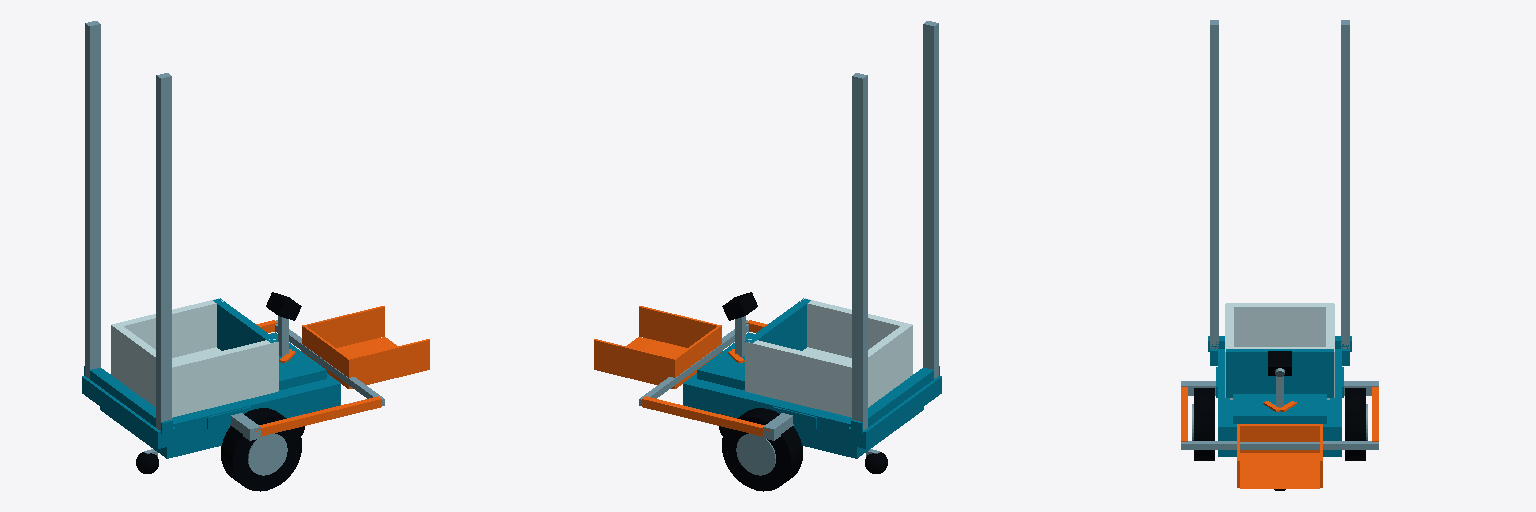
robot.urdf — collector_basket_lift_v2:
<?xml version='1.0' encoding='utf-8'?>
<robot name="collector_basket_lift_v2">
  <material name="body">
    <color rgba="0.03 0.53 0.65 1" />
  </material>
  <material name="basket">
    <color rgba="0.80 0.91 0.93 1" />
  </material>
  <material name="orange">
    <color rgba="1.0 0.44 0.10 1" />
  </material>
  <material name="rubber">
    <color rgba="0.045 0.06 0.08 1" />
  </material>
  <material name="hub">
    <color rgba="0.50 0.65 0.70 1" />
  </material>
  <link name="base_link">
    <inertial>
      <origin xyz="-0.025 0 0" />
      <mass value="7.0" />
      <inertia ixx="0.087" ixy="0" ixz="0" iyy="0.184" iyz="0" izz="0.256" />
    </inertial>
    <visual name="chassis">
      <origin xyz="0 0 -0.025" />
      <geometry>
        <box size="0.55 0.37 0.10" />
      </geometry>
      <material name="body" />
    </visual>
    <collision name="chassis_collision">
      <origin xyz="0 0 -0.025" />
      <geometry>
        <box size="0.55 0.37 0.10" />
      </geometry>
    </collision>
    <visual name="arm_pivot_shaft">
      <origin xyz="-0.06 0 -0.005" />
      <geometry>
        <box size="0.035 0.59 0.035" />
      </geometry>
      <material name="hub" />
    </visual>
    <visual name="front_deck">
      <origin xyz="0.18 0 0.035" />
      <geometry>
        <box size="0.15 0.28 0.035" />
      </geometry>
      <material name="body" />
    </visual>
    <visual name="camera_stand">
      <origin xyz="0.20 0 0.11" />
      <geometry>
        <box size="0.022 0.022 0.14" />
      </geometry>
      <material name="hub" />
    </visual>
    <visual name="onboard_camera">
      <origin xyz="0.20 0 0.20" rpy="0 0.48869219 0" />
      <geometry>
        <box size="0.06 0.07 0.045" />
      </geometry>
      <material name="rubber" />
    </visual>
    <visual name="camera_lens">
      <origin xyz="0.231 0 0.1835" rpy="0 2.05948852 0" />
      <geometry>
        <cylinder radius="0.014" length="0.012" />
      </geometry>
      <material name="hub" />
    </visual>
    <visual name="direction_arrow_left">
      <origin xyz="0.20 0.023 0.057" rpy="0 0 -0.60" />
      <geometry>
        <box size="0.07 0.018 0.006" />
      </geometry>
      <material name="orange" />
    </visual>
    <visual name="direction_arrow_right">
      <origin xyz="0.20 -0.023 0.057" rpy="0 0 0.60" />
      <geometry>
        <box size="0.07 0.018 0.006" />
      </geometry>
      <material name="orange" />
    </visual>
  </link>
  <link name="left_wheel">
    <inertial>
      <mass value="0.35" />
      <inertia ixx="0.00118" ixy="0" ixz="0" iyy="0.00212" iyz="0" izz="0.00118" />
    </inertial>
    <visual>
      <origin rpy="1.57079632679 0 0" />
      <geometry>
        <cylinder radius="0.11" length="0.065" />
      </geometry>
      <material name="rubber" />
    </visual>
    <visual>
      <origin xyz="0 0.034 0" rpy="1.57079632679 0 0" />
      <geometry>
        <cylinder radius="0.062" length="0.004" />
      </geometry>
      <material name="hub" />
    </visual>
    <collision>
      <origin rpy="1.57079632679 0 0" />
      <geometry>
        <mesh filename="wheel_collision_128.obj" scale="1 1 1" />
      </geometry>
    </collision>
  </link>
  <joint name="left_wheel_joint" type="continuous">
    <parent link="base_link" />
    <child link="left_wheel" />
    <origin xyz="0 0.225 -0.095" />
    <axis xyz="0 1 0" />
    <limit effort="12" velocity="14" />
    <dynamics damping="0.05" friction="0.01" />
  </joint>
  <link name="right_wheel">
    <inertial>
      <mass value="0.35" />
      <inertia ixx="0.00118" ixy="0" ixz="0" iyy="0.00212" iyz="0" izz="0.00118" />
    </inertial>
    <visual>
      <origin rpy="1.57079632679 0 0" />
      <geometry>
        <cylinder radius="0.11" length="0.065" />
      </geometry>
      <material name="rubber" />
    </visual>
    <visual>
      <origin xyz="0 -0.034 0" rpy="1.57079632679 0 0" />
      <geometry>
        <cylinder radius="0.062" length="0.004" />
      </geometry>
      <material name="hub" />
    </visual>
    <collision>
      <origin rpy="1.57079632679 0 0" />
      <geometry>
        <mesh filename="wheel_collision_128.obj" scale="1 1 1" />
      </geometry>
    </collision>
  </link>
  <joint name="right_wheel_joint" type="continuous">
    <parent link="base_link" />
    <child link="right_wheel" />
    <origin xyz="0 -0.225 -0.095" />
    <axis xyz="0 1 0" />
    <limit effort="12" velocity="14" />
    <dynamics damping="0.05" friction="0.01" />
  </joint>
  <link name="shovel_arm">
    <inertial>
      <origin xyz="0.20 0 0" />
      <mass value="0.55" />
      <inertia ixx="0.0447" ixy="0" ixz="0" iyy="0.00735" iyz="0" izz="0.052" />
    </inertial>
    <visual name="left_arm">
      <origin xyz="0.20 0.285 0" />
      <geometry>
        <box size="0.40 0.02 0.025" />
      </geometry>
      <material name="orange" />
    </visual>
    <collision name="left_arm_collision">
      <origin xyz="0.20 0.285 0" />
      <geometry>
        <box size="0.40 0.02 0.025" />
      </geometry>
    </collision>
    <visual name="right_arm">
      <origin xyz="0.20 -0.285 0" />
      <geometry>
        <box size="0.40 0.02 0.025" />
      </geometry>
      <material name="orange" />
    </visual>
    <collision name="right_arm_collision">
      <origin xyz="0.20 -0.285 0" />
      <geometry>
        <box size="0.40 0.02 0.025" />
      </geometry>
    </collision>
    <visual name="bucket_pivot_shaft">
      <origin xyz="0.40 0 0" />
      <geometry>
        <box size="0.02 0.59 0.02" />
      </geometry>
      <material name="hub" />
    </visual>
  </link>
  <joint name="shovel_lift_joint" type="revolute">
    <parent link="base_link" />
    <child link="shovel_arm" />
    <origin xyz="-0.06 0 -0.005" />
    <axis xyz="0 -1 0" />
    <limit lower="-0.48" upper="2.25" effort="14" velocity="1.5" />
    <dynamics damping="0.08" friction="0.01" />
  </joint>
  <link name="shovel_bucket">
    <inertial>
      <origin xyz="0.12 0 0.005" />
      <mass value="0.30" />
      <inertia ixx="0.0020" ixy="0" ixz="0" iyy="0.0020" iyz="0" izz="0.0032" />
    </inertial>
    <visual name="shovel_floor">
      <origin xyz="0 0 0" />
      <geometry>
        <mesh filename="collector_beveled_floor.obj" scale="1 1 1" />
      </geometry>
      <material name="orange" />
    </visual>
    <collision name="shovel_floor_collision">
      <origin xyz="0 0 0" />
      <geometry>
        <mesh filename="collector_beveled_floor.obj" scale="1 1 1" />
      </geometry>
    </collision>
    <visual name="shovel_back">
      <origin xyz="-0.004 0 0.020" />
      <geometry>
        <box size="0.008 0.256 0.09" />
      </geometry>
      <material name="orange" />
    </visual>
    <collision name="shovel_back_collision">
      <origin xyz="-0.004 0 0.020" />
      <geometry>
        <box size="0.008 0.256 0.09" />
      </geometry>
    </collision>
    <visual name="shovel_left">
      <origin xyz="0.125 0.124 0.020" />
      <geometry>
        <box size="0.25 0.008 0.09" />
      </geometry>
      <material name="orange" />
    </visual>
    <collision name="shovel_left_collision">
      <origin xyz="0.125 0.124 0.020" />
      <geometry>
        <box size="0.25 0.008 0.09" />
      </geometry>
    </collision>
    <visual name="shovel_right">
      <origin xyz="0.125 -0.124 0.020" />
      <geometry>
        <box size="0.25 0.008 0.09" />
      </geometry>
      <material name="orange" />
    </visual>
    <collision name="shovel_right_collision">
      <origin xyz="0.125 -0.124 0.020" />
      <geometry>
        <box size="0.25 0.008 0.09" />
      </geometry>
    </collision>
  </link>
  <joint name="shovel_tilt_joint" type="revolute">
    <parent link="shovel_arm" />
    <child link="shovel_bucket" />
    <origin xyz="0.40 0 0" />
    <axis xyz="0 -1 0" />
    <limit lower="-3.10" upper="0.85" effort="8" velocity="2.0" />
    <dynamics damping="0.04" friction="0.005" />
  </joint>
  <link name="front_caster_fork">
    <inertial>
      <origin xyz="-0.01 0 -0.015" />
      <mass value="0.02" />
      <inertia ixx="1e-05" ixy="0" ixz="0" iyy="1e-05" iyz="0" izz="1e-05" />
    </inertial>
    <visual>
      <origin xyz="-0.01 0 -0.015" />
      <geometry>
        <box size="0.035 0.018 0.035" />
      </geometry>
      <material name="hub" />
    </visual>
  </link>
  <joint name="front_caster_yaw" type="continuous">
    <parent link="base_link" />
    <child link="front_caster_fork" />
    <origin xyz="0.25 0 -0.143" />
    <axis xyz="0 0 1" />
    <limit effort="0.2" velocity="100" />
    <dynamics damping="0.0001" friction="0" />
  </joint>
  <link name="front_caster_wheel">
    <inertial>
      <origin xyz="0 0 0" />
      <mass value="0.04" />
      <inertia ixx="1.64e-05" ixy="0" ixz="0" iyy="1.64e-05" iyz="0" izz="1.64e-05" />
    </inertial>
    <visual>
      <geometry>
        <sphere radius="0.032" />
      </geometry>
      <material name="rubber" />
    </visual>
    <collision>
      <geometry>
        <sphere radius="0.032" />
      </geometry>
    </collision>
  </link>
  <joint name="front_caster_roll" type="continuous">
    <parent link="front_caster_fork" />
    <child link="front_caster_wheel" />
    <origin xyz="-0.02 0 -0.030" />
    <axis xyz="0 1 0" />
    <limit effort="0.2" velocity="100" />
    <dynamics damping="0.0001" friction="0" />
  </joint>
  <link name="rear_caster_fork">
    <inertial>
      <origin xyz="-0.01 0 -0.015" />
      <mass value="0.02" />
      <inertia ixx="1e-05" ixy="0" ixz="0" iyy="1e-05" iyz="0" izz="1e-05" />
    </inertial>
    <visual>
      <origin xyz="-0.01 0 -0.015" />
      <geometry>
        <box size="0.035 0.018 0.035" />
      </geometry>
      <material name="hub" />
    </visual>
  </link>
  <joint name="rear_caster_yaw" type="continuous">
    <parent link="base_link" />
    <child link="rear_caster_fork" />
    <origin xyz="-0.21 0 -0.141" />
    <axis xyz="0 0 1" />
    <limit effort="0.2" velocity="100" />
    <dynamics damping="0.0001" friction="0" />
  </joint>
  <link name="rear_caster_wheel">
    <inertial>
      <origin xyz="0 0 0" />
      <mass value="0.04" />
      <inertia ixx="1.64e-05" ixy="0" ixz="0" iyy="1.64e-05" iyz="0" izz="1.64e-05" />
    </inertial>
    <visual>
      <geometry>
        <sphere radius="0.032" />
      </geometry>
      <material name="rubber" />
    </visual>
    <collision>
      <geometry>
        <sphere radius="0.032" />
      </geometry>
    </collision>
  </link>
  <joint name="rear_caster_roll" type="continuous">
    <parent link="rear_caster_fork" />
    <child link="rear_caster_wheel" />
    <origin xyz="-0.02 0 -0.030" />
    <axis xyz="0 1 0" />
    <limit effort="0.2" velocity="100" />
    <dynamics damping="0.0001" friction="0" />
  </joint>
  <link name="refill_mast">
    <inertial>
      <origin xyz="-.29 0 .55" />
      <mass value="1.0" />
      <inertia ixx="0.11260833333333335" iyy="0.09760833333333334" izz="0.015816666666666663" ixy="0" ixz="0" iyz="0" />
    </inertial>
    <visual name="mast_visual">
      <origin xyz="-0.29 -0.195 0.55" />
      <geometry>
        <box size="0.035 0.025 1.08" />
      </geometry>
      <material name="hub" />
    </visual>
    <collision name="mast_collision">
      <origin xyz="-0.29 -0.195 0.55" />
      <geometry>
        <box size="0.035 0.025 1.08" />
      </geometry>
    </collision>
    <visual name="mast_visual">
      <origin xyz="-0.29 0.195 0.55" />
      <geometry>
        <box size="0.035 0.025 1.08" />
      </geometry>
      <material name="hub" />
    </visual>
    <collision name="mast_collision">
      <origin xyz="-0.29 0.195 0.55" />
      <geometry>
        <box size="0.035 0.025 1.08" />
      </geometry>
    </collision>
    <visual name="base_brace_visual">
      <origin xyz="-0.29 0 0.035" />
      <geometry>
        <box size="0.035 0.43 0.035" />
      </geometry>
      <material name="body" />
    </visual>
    <collision name="base_brace_collision">
      <origin xyz="-0.29 0 0.035" />
      <geometry>
        <box size="0.035 0.43 0.035" />
      </geometry>
    </collision>
  </link>
  <joint name="refill_mast_fixed" type="fixed">
    <parent link="base_link" />
    <child link="refill_mast" />
    <origin xyz="0 0 0" />
  </joint>
  <link name="refill_carriage">
    <inertial>
      <origin xyz="-.21 0 -.04" />
      <mass value="0.12" />
      <inertia ixx="0.0017889999999999998" iyy="5e-05" izz="0.0017889999999999998" ixy="0" ixz="0" iyz="0" />
    </inertial>
    <visual name="carriage_visual">
      <origin xyz="-0.21 0 -0.04" />
      <geometry>
        <box size="0.055 0.42 0.05" />
      </geometry>
      <material name="body" />
    </visual>
  </link>
  <joint name="refill_lift_joint" type="prismatic">
    <parent link="base_link" />
    <child link="refill_carriage" />
    <origin xyz="-0.08 0 0.04" />
    <axis xyz="0 0 1" />
    <limit lower="0" upper="1.04" effort="120" velocity="0.16" />
    <dynamics damping=".1" friction="0" />
  </joint>
  <link name="refill_slide">
    <inertial>
      <origin xyz="0 0 -.035" />
      <mass value="0.18" />
      <inertia ixx="0.002184375" iyy="0.0005043749999999999" izz="0.002652" ixy="0" ixz="0" iyz="0" />
    </inertial>
    <visual name="tilt_cradle_visual">
      <origin xyz="0 0 -0.035" />
      <geometry>
        <box size="0.14 0.38 0.035" />
      </geometry>
      <material name="body" />
    </visual>
  </link>
  <joint name="refill_slide_joint" type="prismatic">
    <parent link="refill_carriage" />
    <child link="refill_slide" />
    <origin xyz="0 0 0" />
    <axis xyz="-1 0 0" />
    <limit lower="0" upper="0.7" effort="60" velocity="0.14" />
    <dynamics damping=".1" friction="0" />
  </joint>
  <link name="refill_basket">
    <inertial>
      <origin xyz="0 0 .06" />
      <mass value="0.45" />
      <inertia ixx="0.0043349999999999994" iyy="0.005295000000000001" izz="0.007710000000000001" ixy="0" ixz="0" iyz="0" />
    </inertial>
    <visual name="basket_floor">
      <origin xyz="0.0 0.0 0.0" />
      <geometry>
        <box size="0.34 0.30 0.025" />
      </geometry>
      <material name="basket" />
    </visual>
    <collision name="basket_floor_collision">
      <origin xyz="0.0 0.0 0.0" />
      <geometry>
        <box size="0.34 0.30 0.025" />
      </geometry>
    </collision>
    <visual name="basket_left">
      <origin xyz="0.0 0.15 0.07" />
      <geometry>
        <box size="0.34 0.025 0.15" />
      </geometry>
      <material name="basket" />
    </visual>
    <collision name="basket_left_collision">
      <origin xyz="0.0 0.15 0.07" />
      <geometry>
        <box size="0.34 0.025 0.15" />
      </geometry>
    </collision>
    <visual name="basket_right">
      <origin xyz="0.0 -0.15 0.07" />
      <geometry>
        <box size="0.34 0.025 0.15" />
      </geometry>
      <material name="basket" />
    </visual>
    <collision name="basket_right_collision">
      <origin xyz="0.0 -0.15 0.07" />
      <geometry>
        <box size="0.34 0.025 0.15" />
      </geometry>
    </collision>
    <visual name="basket_front">
      <origin xyz="0.16 0.0 0.07" />
      <geometry>
        <box size="0.025 0.32 0.15" />
      </geometry>
      <material name="body" />
    </visual>
    <collision name="basket_front_collision">
      <origin xyz="0.16 0.0 0.07" />
      <geometry>
        <box size="0.025 0.32 0.15" />
      </geometry>
    </collision>
  </link>
  <link name="refill_gate">
    <inertial>
      <origin xyz="0 0 0" />
      <mass value="0.08" />
      <inertia ixx="0.0008326666666666668" iyy="0.00015416666666666668" izz="0.0006868333333333335" ixy="0" ixz="0" iyz="0" />
    </inertial>
    <visual name="basket_back">
      <origin xyz="2.7755575615628914e-17 0.0 0.0" />
      <geometry>
        <box size="0.025 0.32 0.15" />
      </geometry>
      <material name="basket" />
    </visual>
    <collision name="basket_back_collision">
      <origin xyz="2.7755575615628914e-17 0.0 0.0" />
      <geometry>
        <box size="0.025 0.32 0.15" />
      </geometry>
    </collision>
  </link>
  <joint name="refill_tip_joint" type="revolute">
    <parent link="refill_slide" />
    <child link="refill_basket" />
    <origin xyz="0 0 0" />
    <axis xyz="0 -1 0" />
    <limit lower="0" upper="1.1" effort="18" velocity="0.45" />
    <dynamics damping=".1" friction="0" />
  </joint>
  <joint name="refill_gate_joint" type="prismatic">
    <parent link="refill_basket" />
    <child link="refill_gate" />
    <origin xyz="-0.16 0 0.07" />
    <axis xyz="0 0 1" />
    <limit lower="0" upper="0.2" effort="25" velocity="0.14" />
    <dynamics damping=".1" friction="0" />
  </joint>
</robot>

--- Facts derived from the render (not from the file) ---
3 views of the same robot in one strip: view 1: azimuth 30°, elevation 25°; view 2: azimuth 150°, elevation 25°; view 3: azimuth 270°, elevation 25° (orthographic).
Model collector_basket_lift_v2 with 14 links and 13 joints (3 revolute, 6 continuous, 3 prismatic, 1 fixed), rooted at base_link, posed all joints at 0.
Links seen in each view (by area): view 1: refill_mast, refill_basket, base_link, shovel_bucket, right_wheel, refill_gate, shovel_arm, refill_carriage; view 2: refill_mast, refill_basket, base_link, shovel_bucket, left_wheel, refill_gate, shovel_arm, refill_carriage; view 3: base_link, refill_mast, refill_basket, shovel_bucket, refill_gate, shovel_arm, left_wheel, right_wheel.
Link boxes in pixels (x1=…): refill_mast: x1=84, y1=21, x2=172, y2=434; refill_basket: x1=112, y1=298, x2=278, y2=417; base_link: x1=100, y1=292, x2=340, y2=458; shovel_bucket: x1=302, y1=306, x2=429, y2=388; right_wheel: x1=221, y1=408, x2=301, y2=491; refill_gate: x1=111, y1=323, x2=174, y2=406; shovel_arm: x1=255, y1=320, x2=384, y2=436; refill_carriage: x1=82, y1=376, x2=175, y2=448; refill_mast: x1=851, y1=21, x2=939, y2=434; refill_basket: x1=745, y1=298, x2=911, y2=417; base_link: x1=683, y1=292, x2=923, y2=458; shovel_bucket: x1=594, y1=306, x2=721, y2=388; left_wheel: x1=722, y1=408, x2=802, y2=491; refill_gate: x1=848, y1=323, x2=912, y2=406; shovel_arm: x1=639, y1=320, x2=768, y2=436; refill_carriage: x1=848, y1=376, x2=941, y2=448; base_link: x1=1181, y1=349, x2=1378, y2=456; refill_mast: x1=1208, y1=20, x2=1351, y2=351; refill_basket: x1=1225, y1=304, x2=1334, y2=399; shovel_bucket: x1=1237, y1=424, x2=1322, y2=488; refill_gate: x1=1226, y1=303, x2=1333, y2=346; shovel_arm: x1=1181, y1=387, x2=1378, y2=449; left_wheel: x1=1345, y1=388, x2=1367, y2=460; right_wheel: x1=1192, y1=388, x2=1214, y2=460.
Size in the robot's own frame: 0.9075 by 0.59 by 1.29 metres.
1 mesh visuals loaded from 1 distinct referenced files (1 OBJ).
